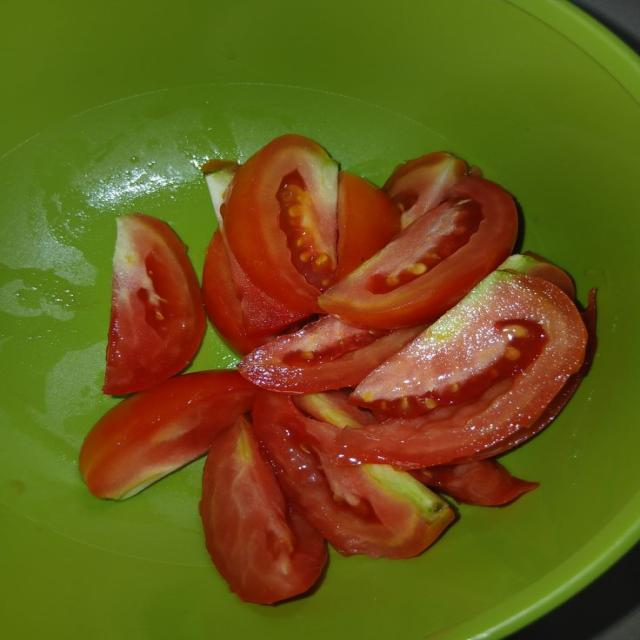sliced tomatoe: (336, 271, 586, 468), (254, 392, 453, 558), (319, 177, 517, 328), (200, 416, 326, 604), (80, 370, 255, 499), (472, 289, 597, 459), (222, 135, 337, 315), (202, 161, 300, 354), (103, 214, 206, 394), (239, 316, 422, 393), (202, 230, 271, 354), (333, 171, 399, 282), (384, 152, 468, 228), (412, 459, 539, 506), (499, 252, 575, 299), (293, 390, 378, 427)
